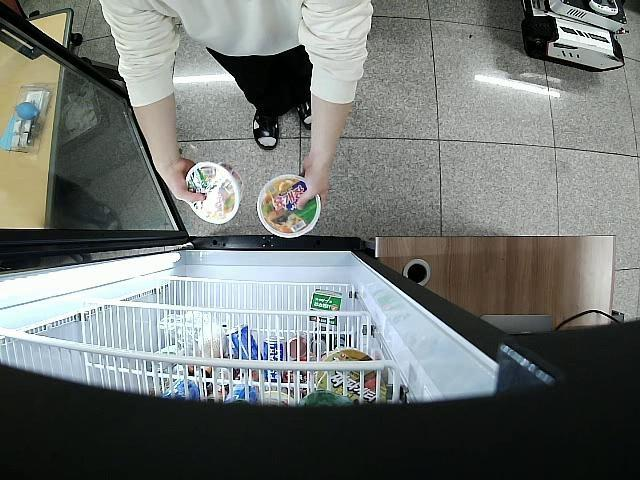09_yukGaeJang: (184, 159, 246, 224), (256, 174, 321, 236)
